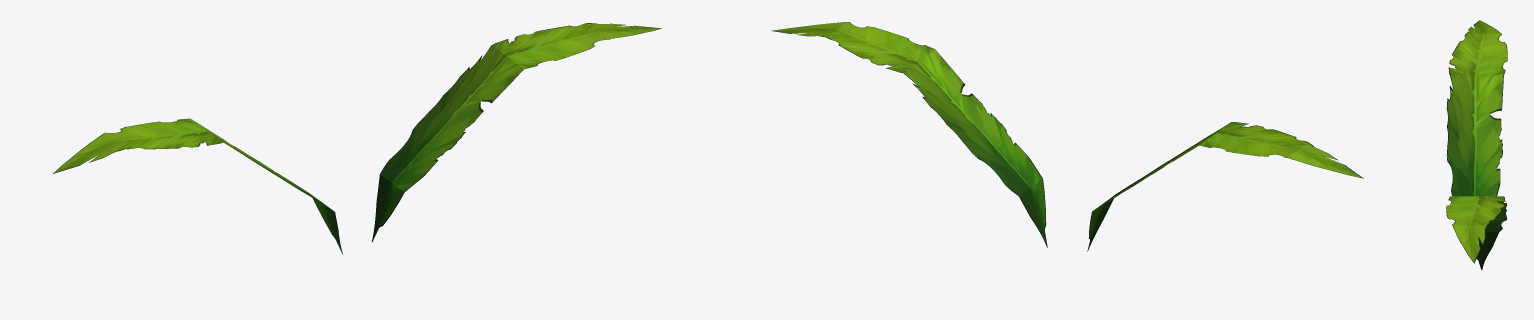
File: Hemp_39.fbx
3 renders of one model, left to right at view 1: azimuth 30°, elevation 25°; view 2: azimuth 150°, elevation 25°; view 3: azimuth 270°, elevation 25°, orthographic. The views are drawn at different scales.
Parts seen in each view (by area): view 1: Hemp_39; view 2: Hemp_39; view 3: Hemp_39.
Part boxes in pixels (box(x1,y1,x2,y2)): Hemp_39: box(53, 23, 661, 254); Hemp_39: box(771, 22, 1363, 251); Hemp_39: box(1446, 20, 1507, 269).
Bounding box in the file's own units: 437 × 135 × 58.87.
